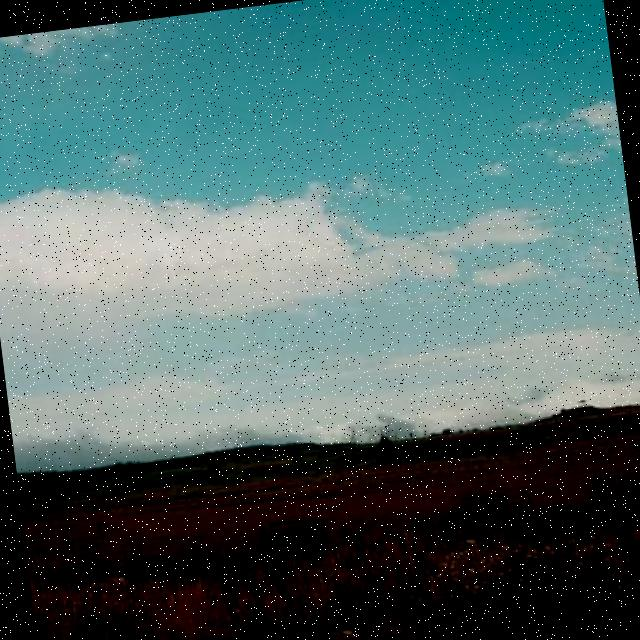St: (1, 86, 640, 430)
